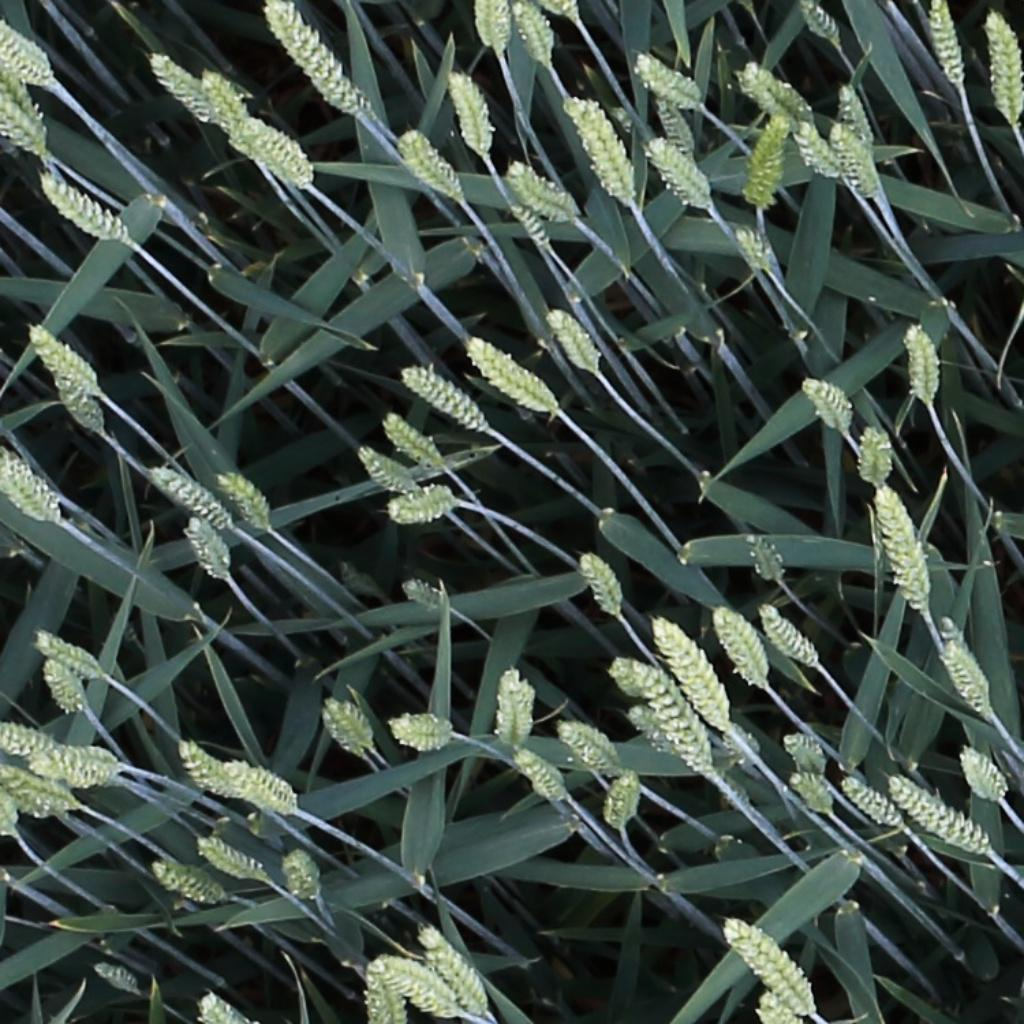0-0: (633, 663, 754, 814), (260, 0, 367, 121), (719, 912, 817, 1017), (654, 614, 733, 724), (561, 91, 636, 203), (887, 778, 989, 858), (873, 481, 931, 615), (415, 922, 490, 1019), (462, 334, 554, 412), (36, 170, 126, 241), (369, 951, 462, 1018), (398, 364, 486, 431), (707, 604, 771, 693), (936, 622, 994, 719), (146, 51, 219, 128), (212, 756, 302, 818), (735, 60, 818, 126), (394, 125, 464, 203), (38, 359, 107, 438), (173, 742, 255, 808), (143, 464, 226, 529), (24, 323, 99, 394), (827, 114, 884, 202), (643, 136, 712, 208), (741, 111, 789, 206), (987, 8, 1024, 131), (232, 118, 308, 177), (542, 304, 602, 378), (1, 453, 61, 527), (443, 65, 491, 157), (0, 62, 49, 150), (28, 745, 121, 791), (503, 161, 576, 219), (210, 468, 271, 536), (177, 513, 232, 585), (573, 547, 625, 622), (193, 64, 248, 133), (791, 116, 849, 181), (648, 90, 699, 162), (632, 54, 701, 107), (763, 603, 817, 670), (509, 746, 567, 808), (495, 666, 534, 757), (798, 374, 853, 438), (927, 1, 966, 91), (379, 413, 441, 468), (31, 633, 102, 681), (38, 651, 87, 720), (831, 76, 875, 152), (955, 744, 1007, 808), (838, 778, 902, 830), (146, 862, 221, 906), (507, 0, 554, 70), (364, 955, 411, 1024), (0, 19, 53, 79), (353, 445, 415, 495), (903, 319, 937, 408), (193, 838, 260, 883), (0, 92, 46, 157), (502, 192, 551, 253), (557, 722, 617, 770), (386, 711, 454, 753), (0, 770, 72, 809), (319, 708, 370, 760), (387, 483, 453, 523), (602, 765, 642, 829), (327, 698, 373, 752), (627, 704, 677, 753), (729, 219, 771, 277), (779, 731, 828, 780), (279, 846, 318, 907), (795, 0, 843, 49), (860, 420, 892, 491), (785, 772, 834, 817), (610, 657, 651, 710), (339, 560, 390, 602), (472, 1, 509, 58), (0, 724, 65, 756), (751, 528, 787, 581), (400, 578, 449, 614), (90, 962, 139, 995), (724, 728, 761, 771), (192, 988, 233, 1024), (755, 992, 798, 1024)
